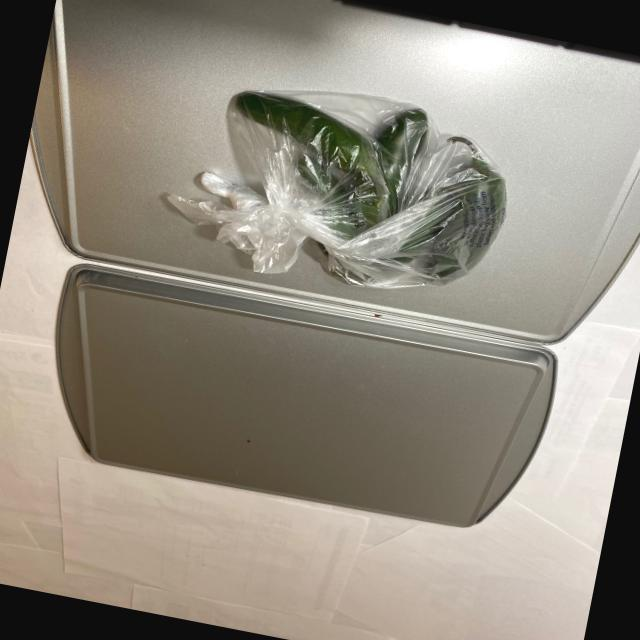chilli: (200, 82, 524, 314)
